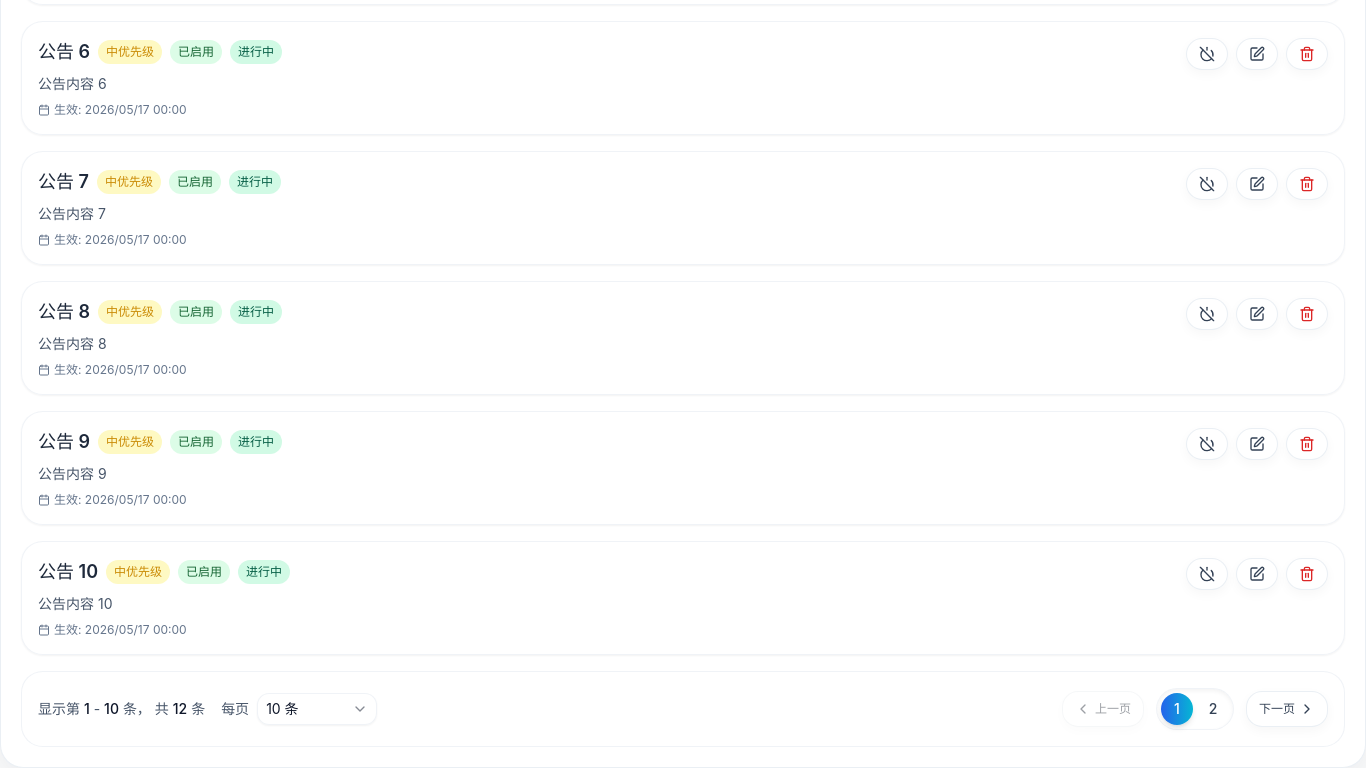
Test case: AnnouncementManagement › 会渲染分页器并支持切换页大小
(page scrolled)
Expected: the text "公告 11" is not shown
Click the dropdown named "每页条数". click: coordinates (317, 709)
box: [257,693,377,725]
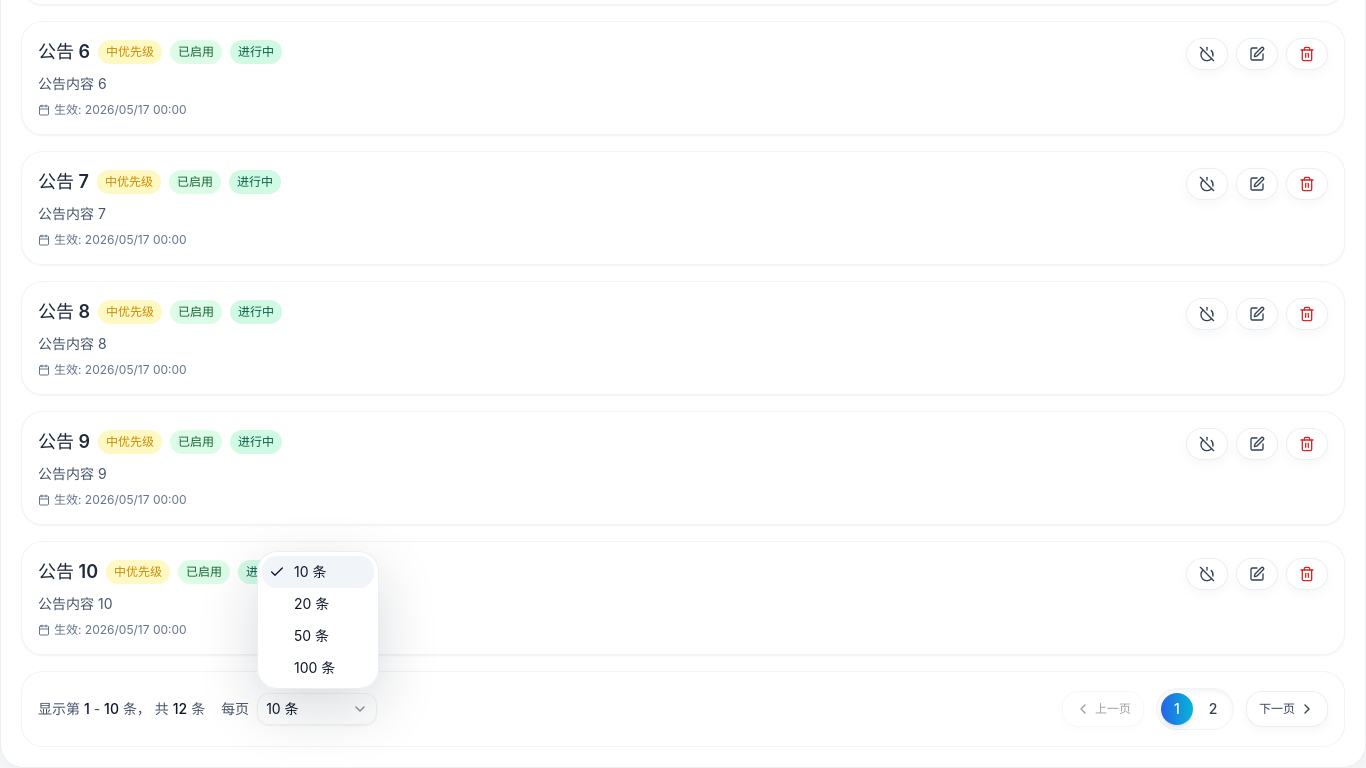
Click the option "20 条". click: coordinates (312, 604)
box: [294,595,329,612]
(page scrolled)
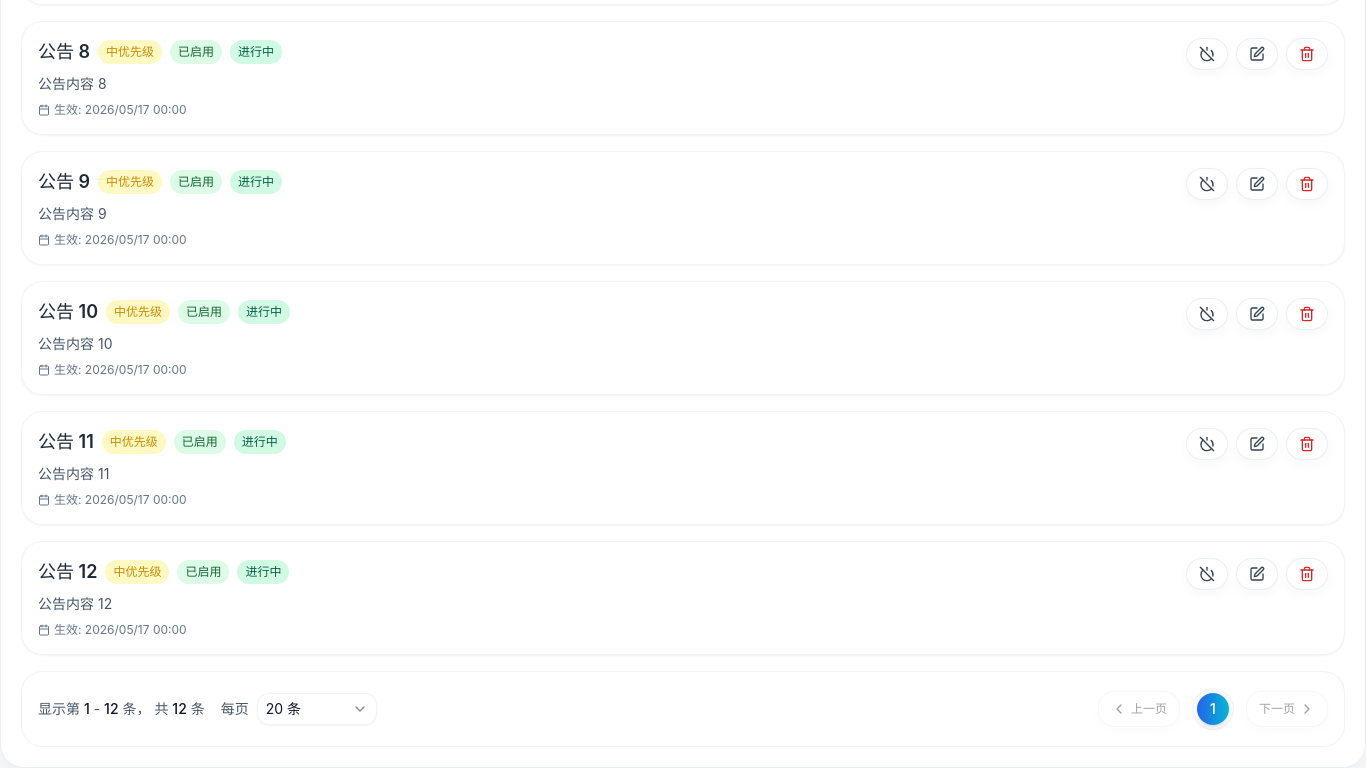
Result: the heading "公告 11" is shown at [38,428,94,456]
